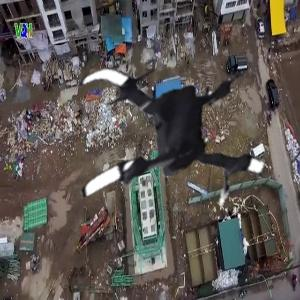drone: (64, 24, 291, 251)
